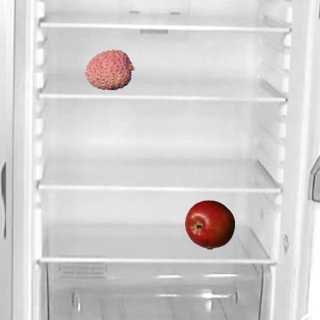Apple Braeburn: (184, 199, 234, 249)
Lychee: (84, 44, 134, 94)
